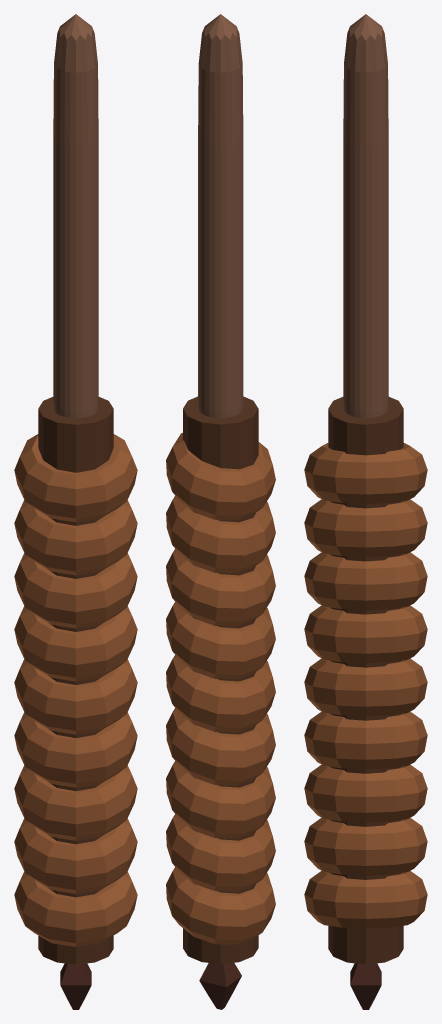
The model's file is Wand 415.glb.
3 renders of one model, left to right at view 1: azimuth 90°, elevation 25°; view 2: azimuth 150°, elevation 25°; view 3: azimuth 270°, elevation 25°, orthographic.
Parts seen in each view (by area): view 1: GeneratedWand; view 2: GeneratedWand; view 3: GeneratedWand.
Boxes of the visible parts, bbox=[...] form: GeneratedWand: bbox=[14, 14, 137, 1009]; GeneratedWand: bbox=[166, 14, 275, 1009]; GeneratedWand: bbox=[304, 14, 427, 1009].
Bounding box in the file's own units: 0.0497 × 0.5171 × 0.0581.
